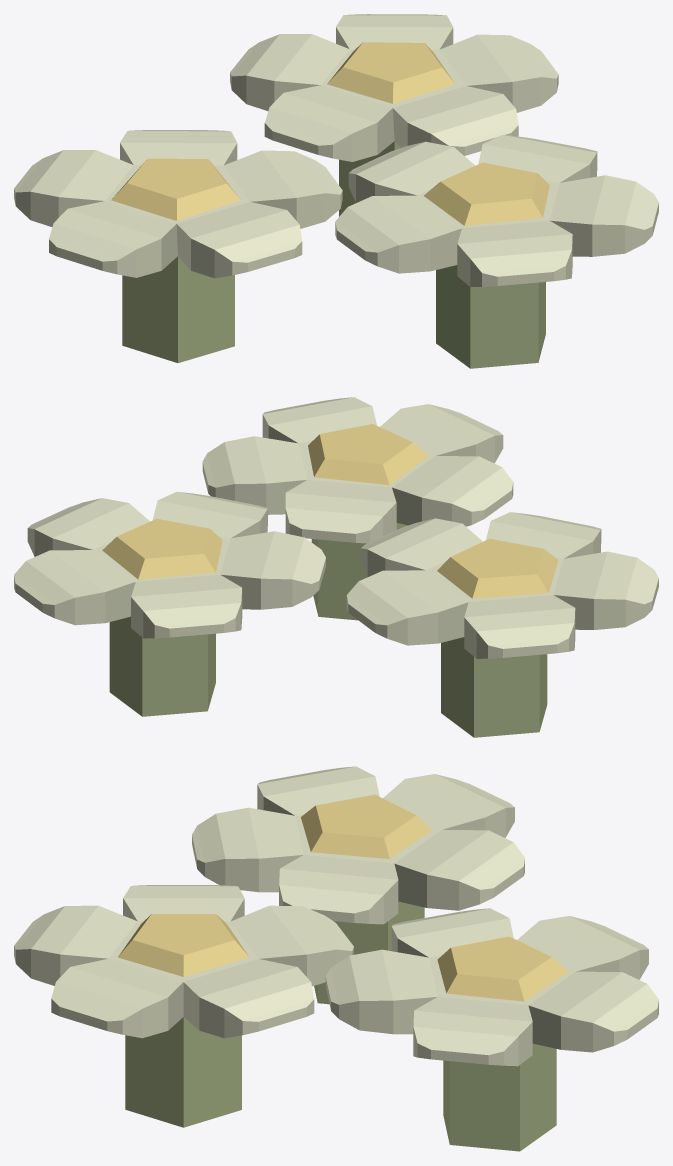
The model's file is DaisyFlowerTrio.fbx.
3 views of the same model, one above another, from view 1: azimuth 30°, elevation 25°; view 2: azimuth 150°, elevation 25°; view 3: azimuth 270°, elevation 25° (orthographic). The views are drawn at different scales.
Visible parts, largest first — view 1: Daisy_Flower_trio; view 2: Daisy_Flower_trio; view 3: Daisy_Flower_trio.
Boxes of the visible parts, left/top/right/bottom form: Daisy_Flower_trio: left=14, top=14, right=658, bottom=368; Daisy_Flower_trio: left=14, top=397, right=658, bottom=737; Daisy_Flower_trio: left=14, top=766, right=658, bottom=1151.
Bounding box in the file's own units: 1.65 × 0.4551 × 1.58.
